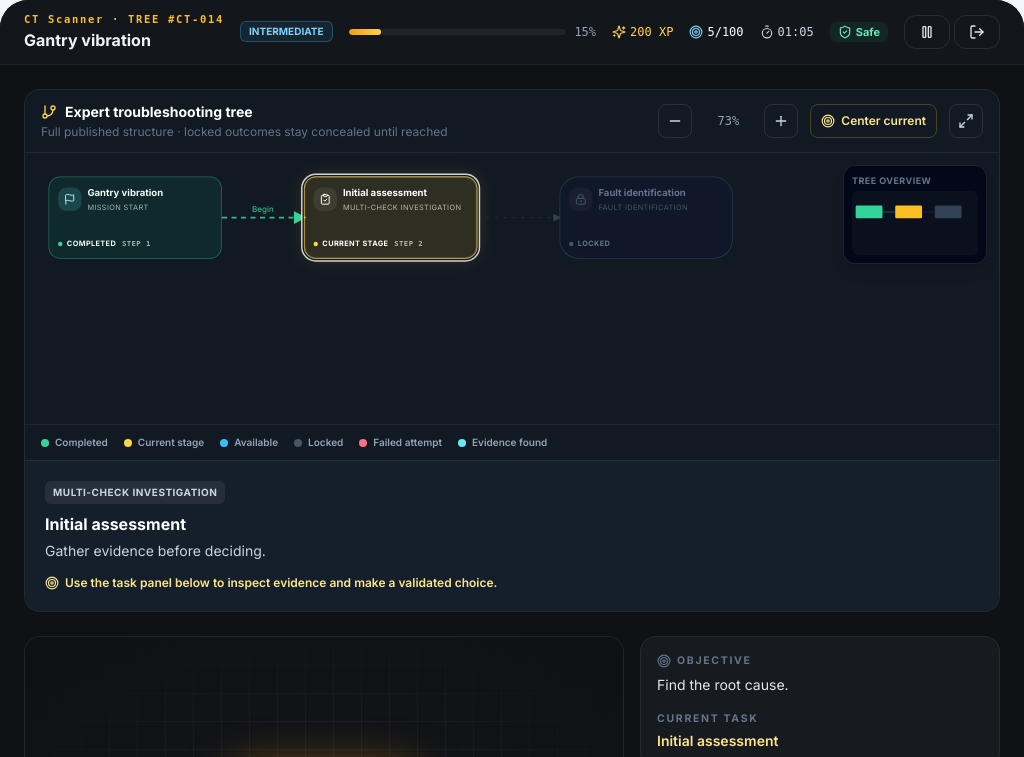
Mission player › renders the full published tree while concealing locked diagnosis details
This screenshot has width=1024, height=757.
Expected: the button with aria-label "Initial assessment, Current stage" is shown, [304,176,477,258]
Expected: the button with aria-label "Fault identification, Locked" is disabled, [560,176,733,258]
What coordinates should you click on to do the following:
click the button with aria-label "Gantry vibration, Completed, evidence found"
I would click on:
 (135, 217)
Its box is [48,176,222,258].
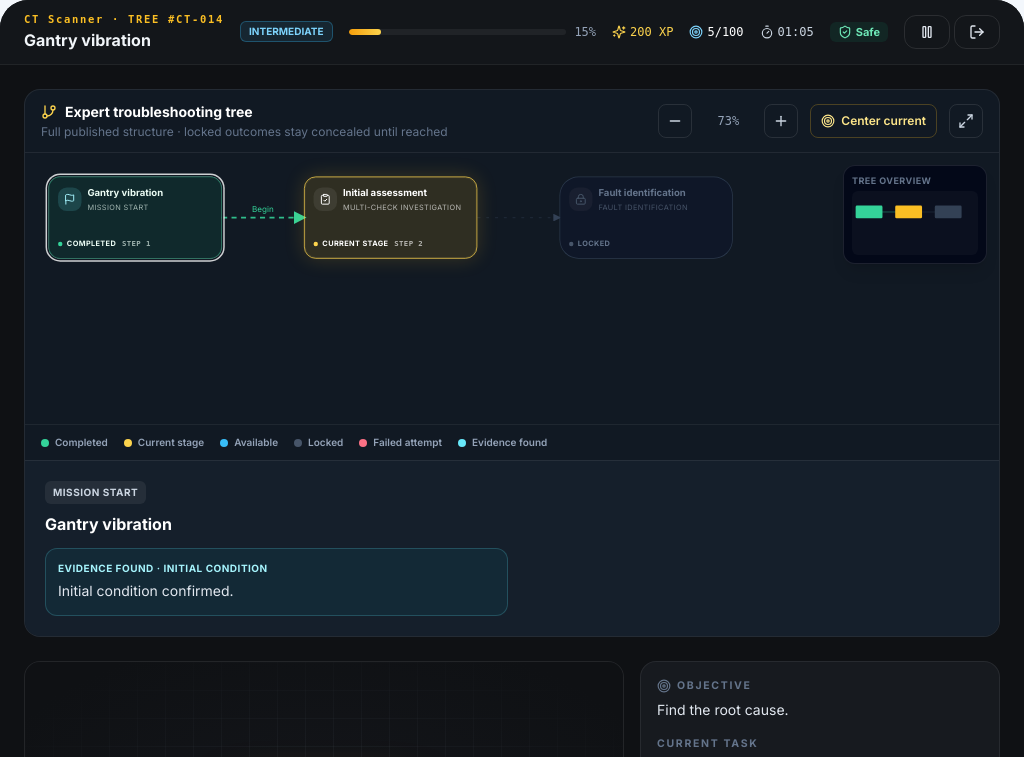
Expected: the text "Initial condition confirmed." is shown, [58,582,234,599]
